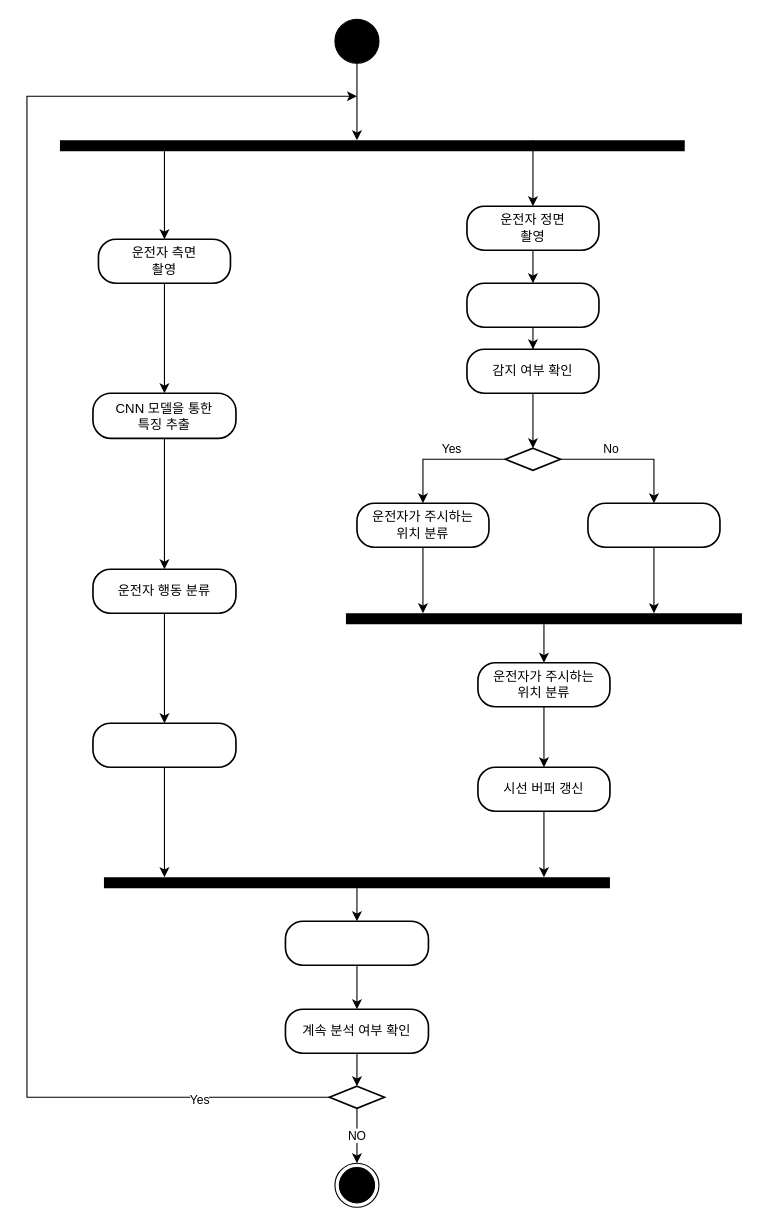
Image size: 761x1227. Some labels were removed from this diagram. Here are the shapes that lost their labels. From the top down, the box of each, then its label:
(466, 282, 599, 328): 운전자 시선 벡터 감지
(587, 502, 720, 548): 운전자 머리 방향을 통한 벡터 감지
(92, 722, 236, 768): 행동 버퍼 갱신
(284, 920, 429, 966): 전체 버퍼 갱신
